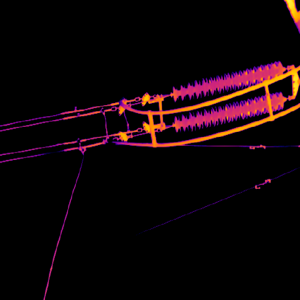insulator: (168, 58, 285, 101), (171, 91, 283, 134)
